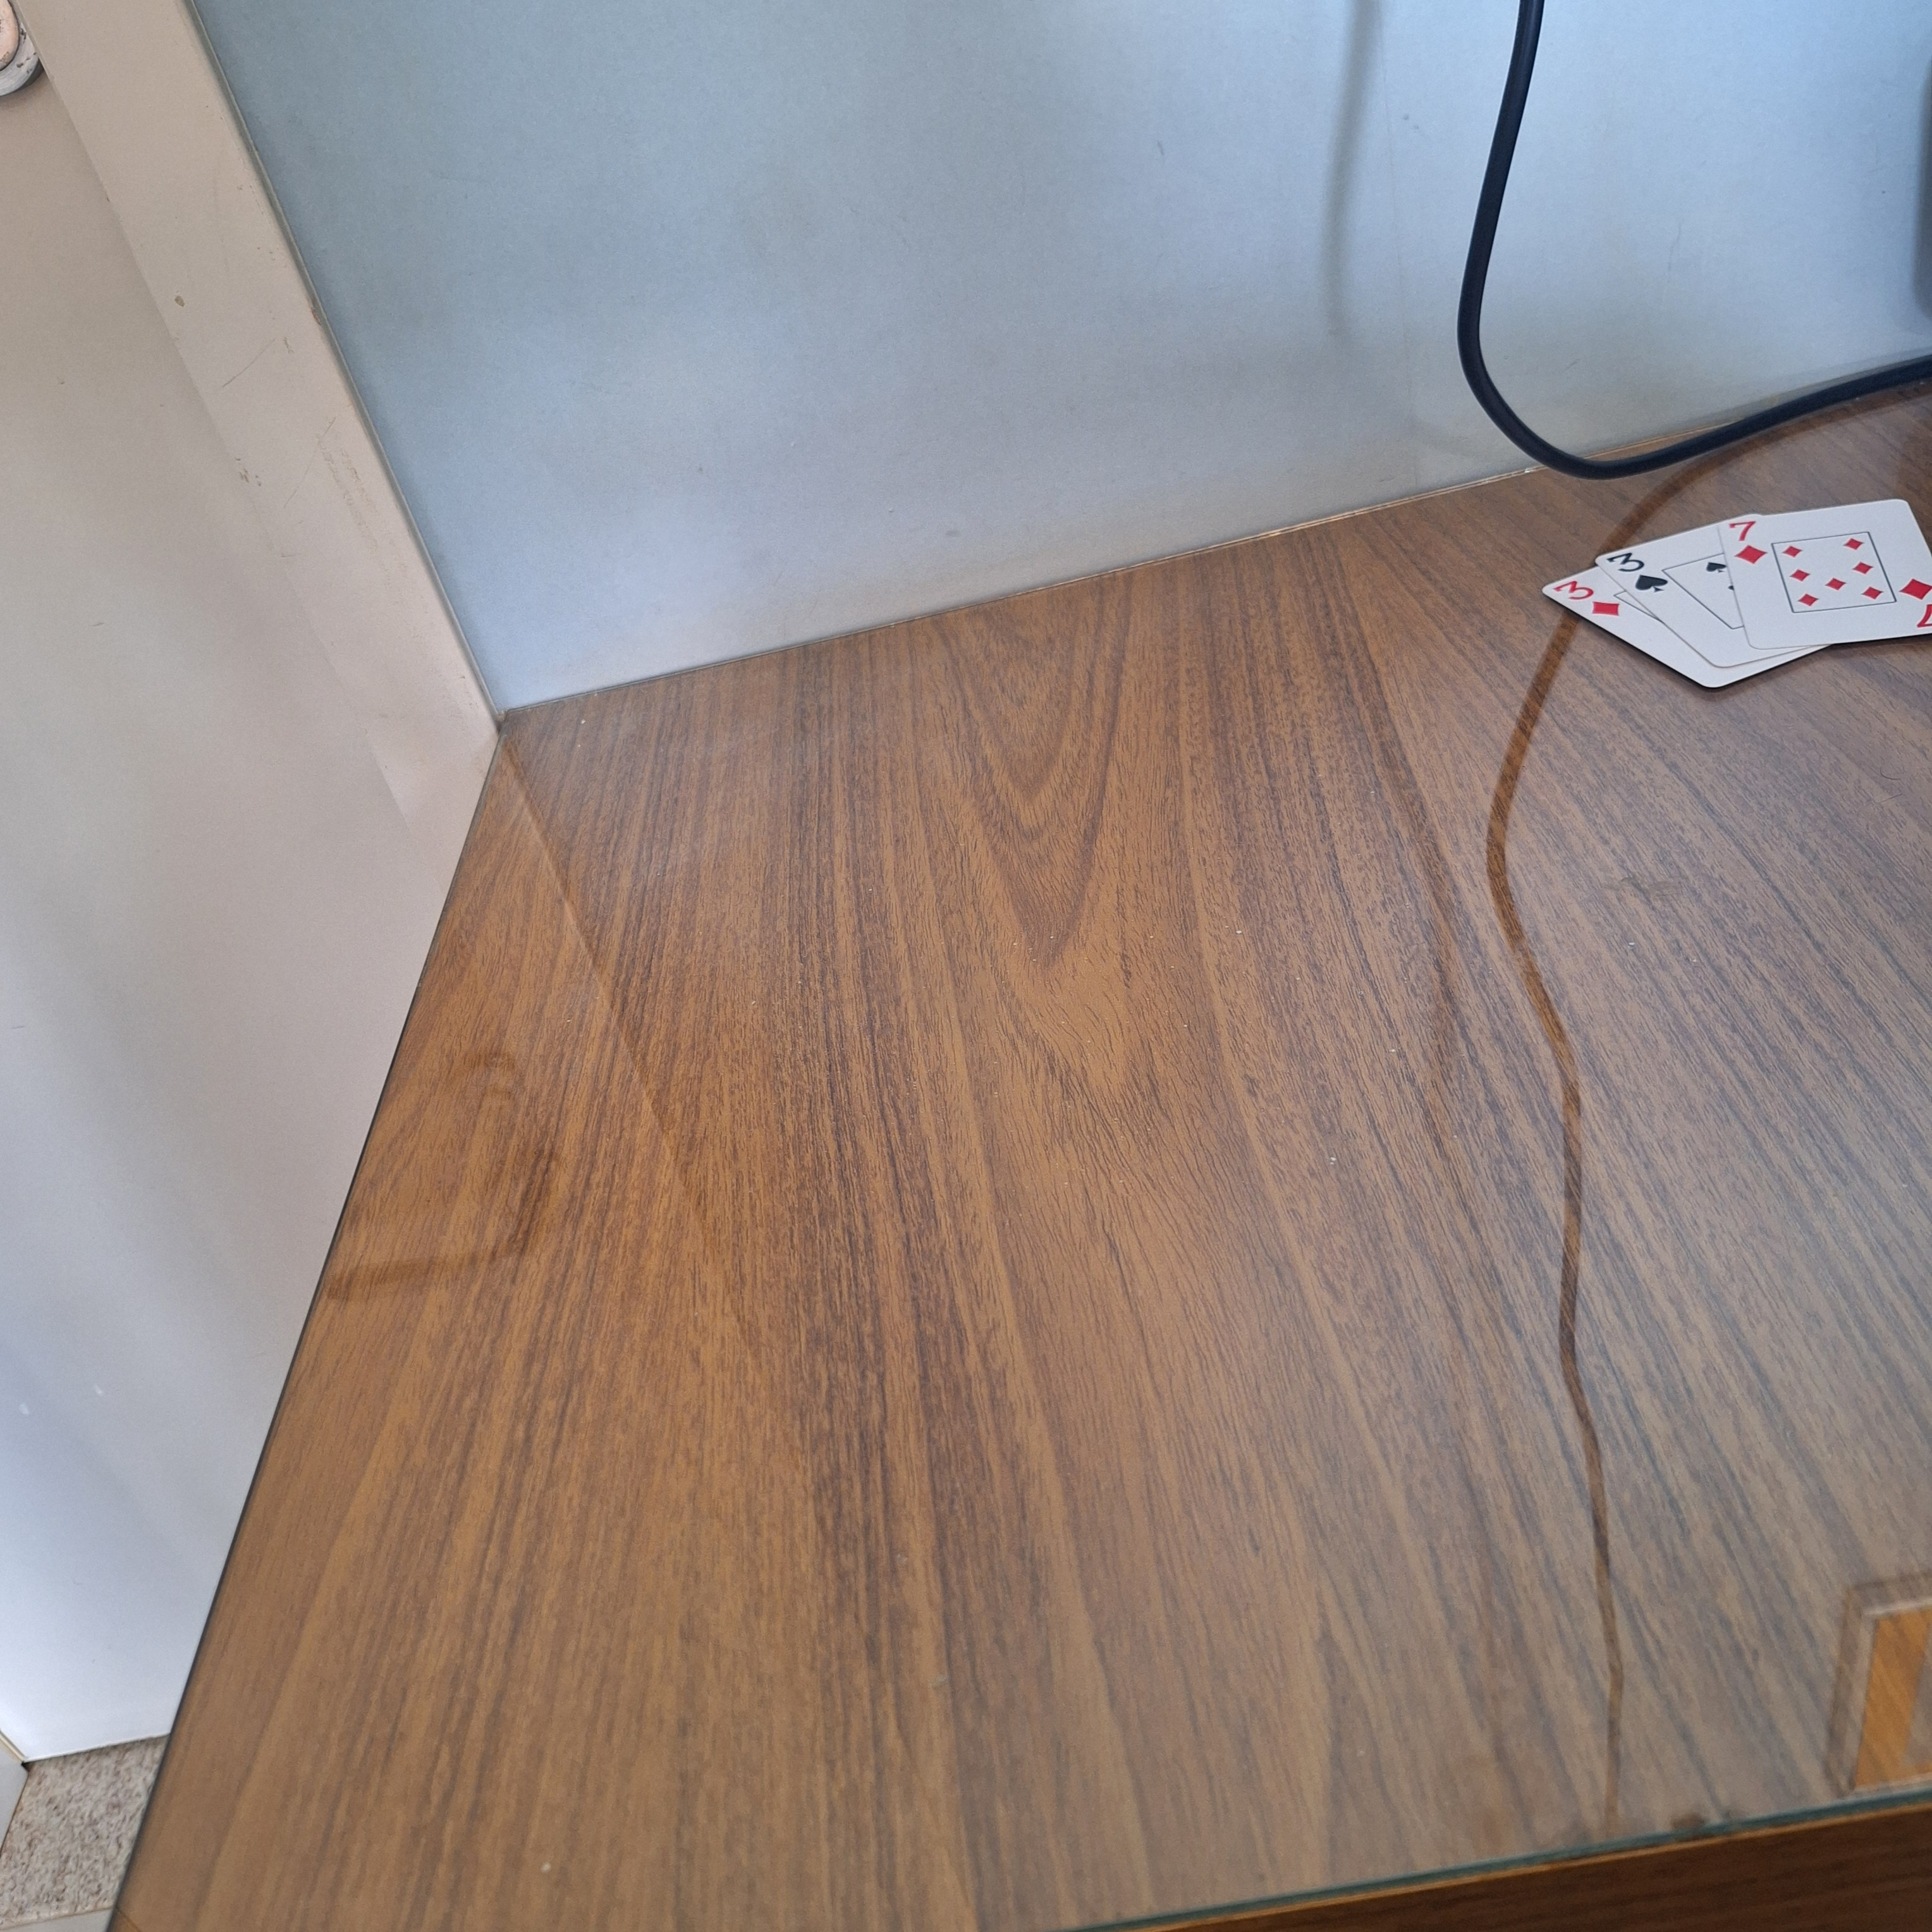3E: (1603, 540, 1679, 602)
3O: (1543, 570, 1629, 628)
7O: (1714, 510, 1776, 571), (1895, 571, 1932, 639)
